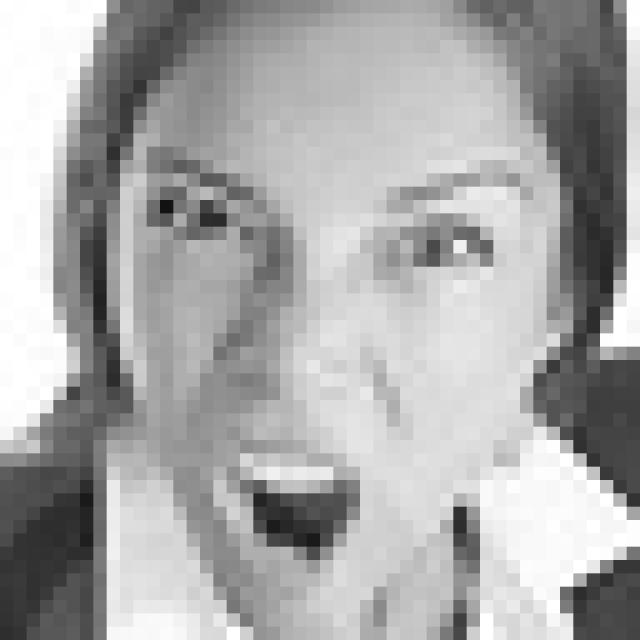angry: (121, 150, 544, 583)
